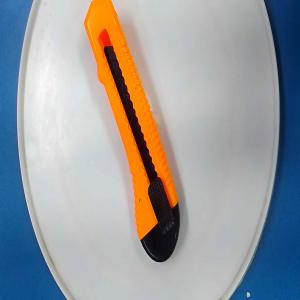estilete: (83, 0, 181, 263)
